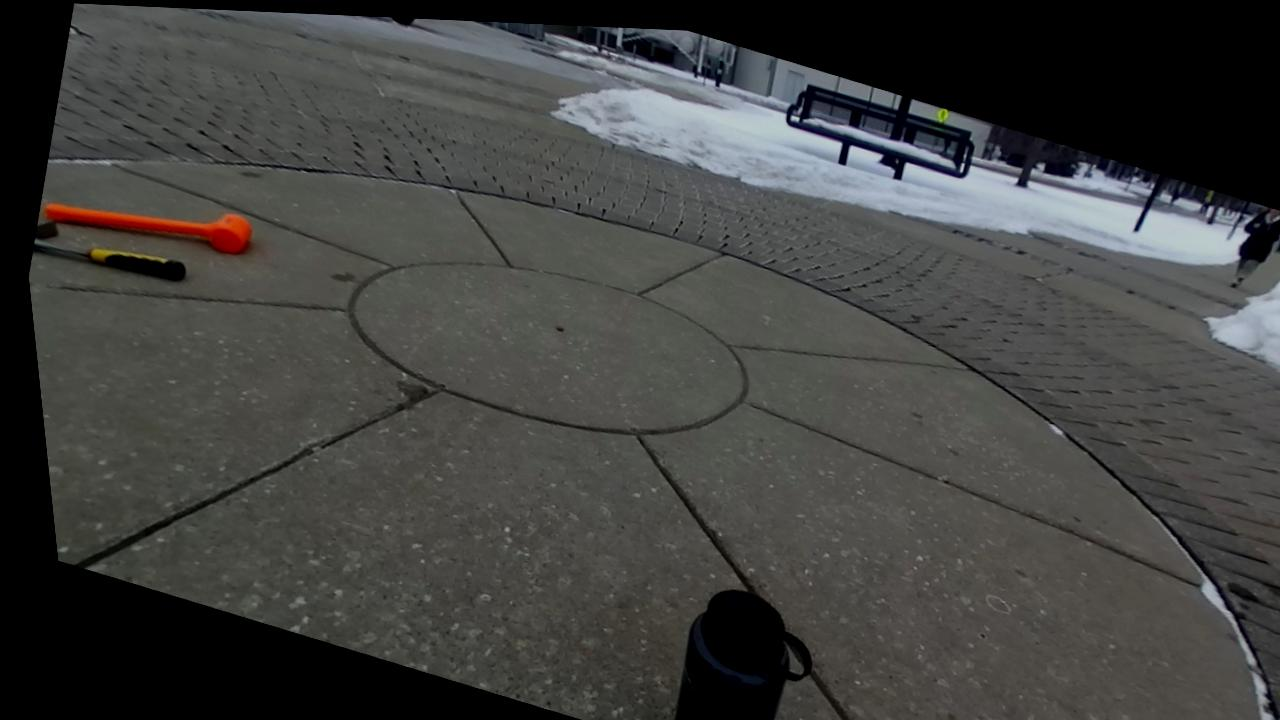bottle: (674, 591, 811, 720)
mallet: (45, 202, 251, 253)
pick: (33, 240, 185, 280)
